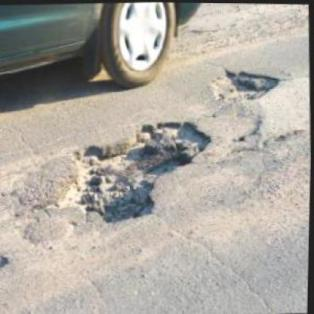Hueco: (57, 113, 216, 225), (211, 64, 282, 100)
